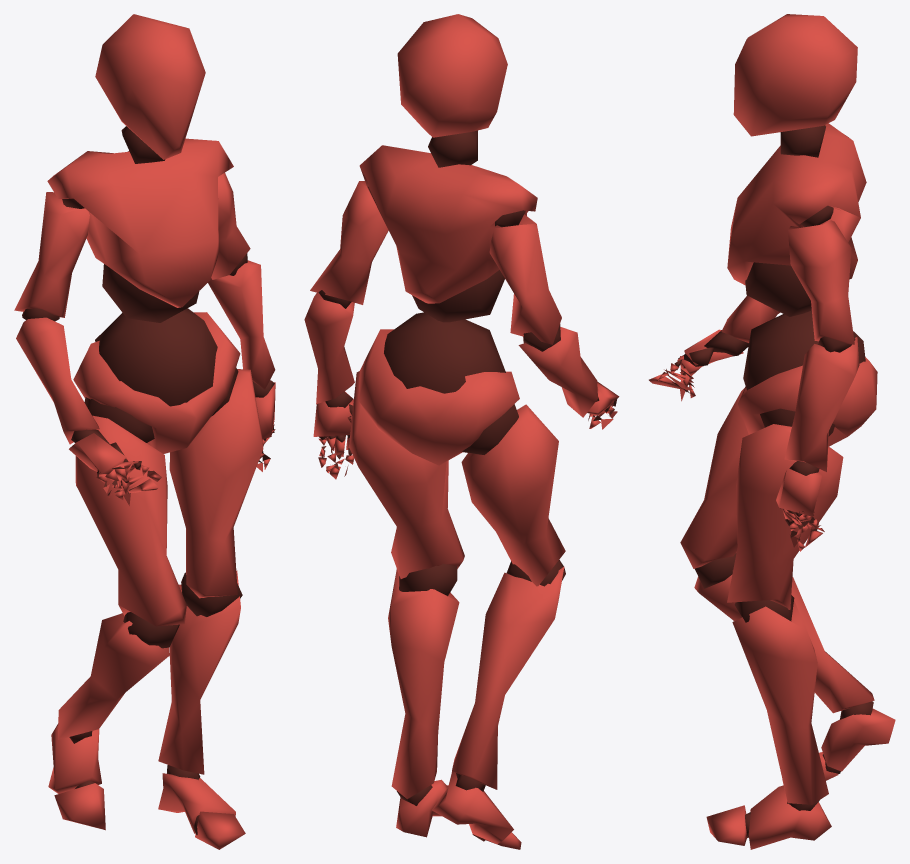
3 views of the same model, side by side, from view 1: azimuth 30°, elevation 25°; view 2: azimuth 150°, elevation 25°; view 3: azimuth 270°, elevation 25° (orthographic).
Parts seen in each view (by area): view 1: Beta_Surface; view 2: Beta_Surface; view 3: Beta_Surface.
Boxes of the visible parts, x1,y1,x2,y2 form: Beta_Surface: (14,14,275,849); Beta_Surface: (304,14,619,849); Beta_Surface: (649,14,895,849).
Bounding box in the file's own units: 4.72 × 14.46 × 4.02.
